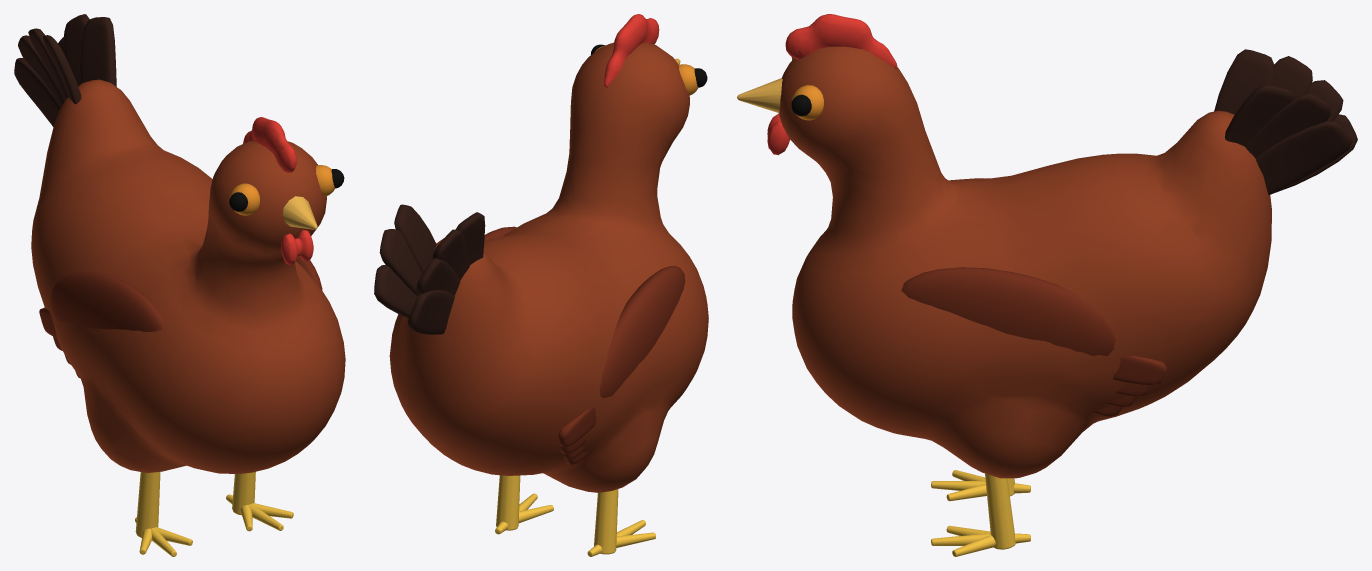
File: hen_stand.fbx
The picture shows the model from 3 angles, left to right: view 1: azimuth 30°, elevation 25°; view 2: azimuth 150°, elevation 25°; view 3: azimuth 270°, elevation 25°; orthographic projection. The views are drawn at different scales.
Visible parts, largest first — view 1: hen_stand; view 2: hen_stand; view 3: hen_stand.
Boxes of the visible parts, x1=… form: hen_stand: x1=14, y1=14, x2=345, y2=556; hen_stand: x1=374, y1=14, x2=708, y2=556; hen_stand: x1=737, y1=14, x2=1357, y2=556.
Bounding box in the file's own units: 0.2331 × 0.5014 × 0.5581.
